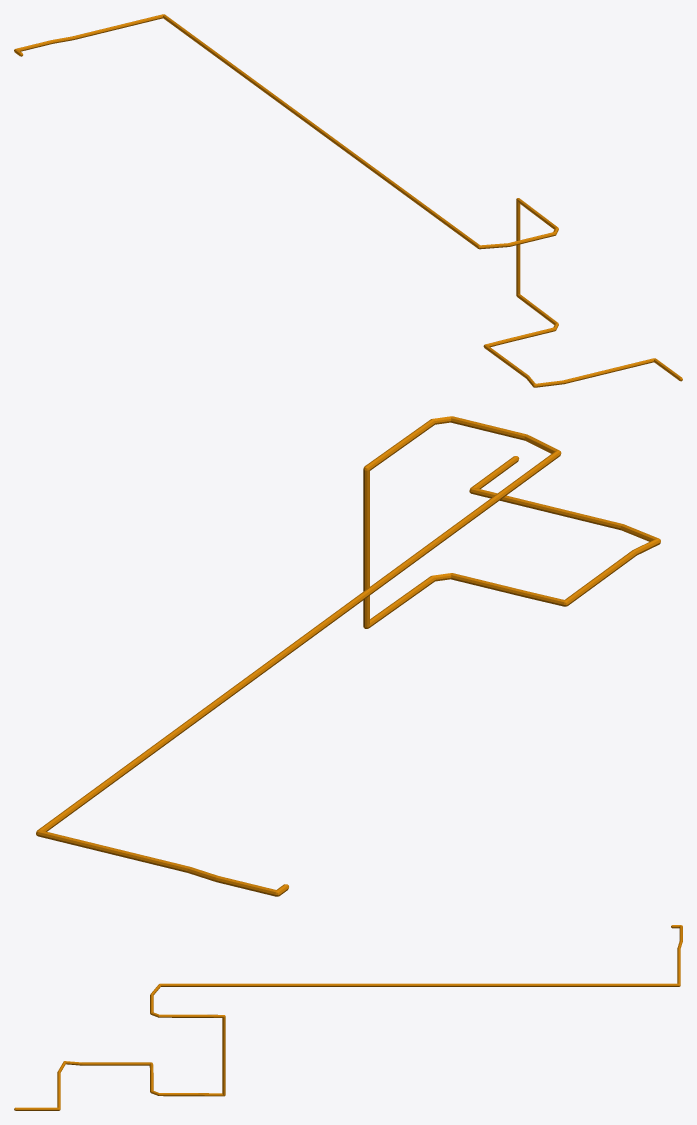
3 renders of one model, top to bottom at view 1: azimuth 30°, elevation 25°; view 2: azimuth 150°, elevation 25°; view 3: azimuth 270°, elevation 25°, orthographic. The views are drawn at different scales.
Size of the model in its own units: 1445 by 520 by 3868.
